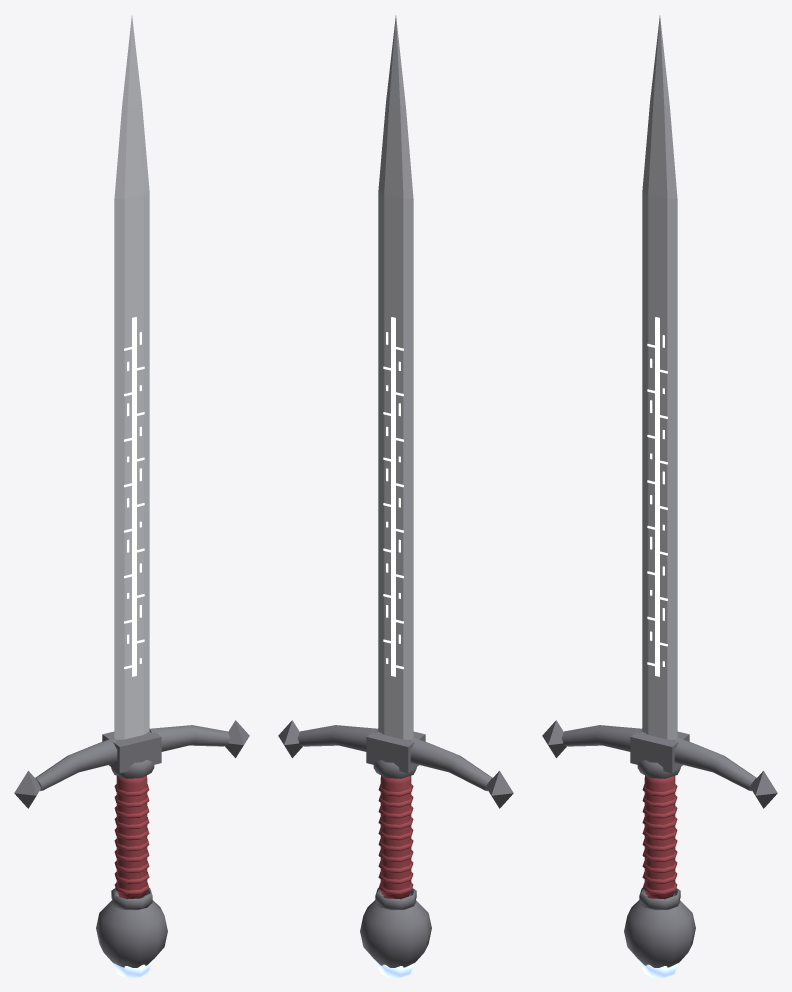
The model's file is MoonstoneSword.fbx.
3 views of the same model, side by side, from view 1: azimuth 30°, elevation 25°; view 2: azimuth 150°, elevation 25°; view 3: azimuth 330°, elevation 25° (orthographic).
Visible parts, largest first — view 1: MoonstoneSword; view 2: MoonstoneSword; view 3: MoonstoneSword.
Part boxes in pixels (x1,y1,x2,y2): MoonstoneSword: (14,15,249,977); MoonstoneSword: (278,15,513,977); MoonstoneSword: (542,15,777,977).
Size of the model in its own units: 0.282 by 1.1 by 0.0713.
